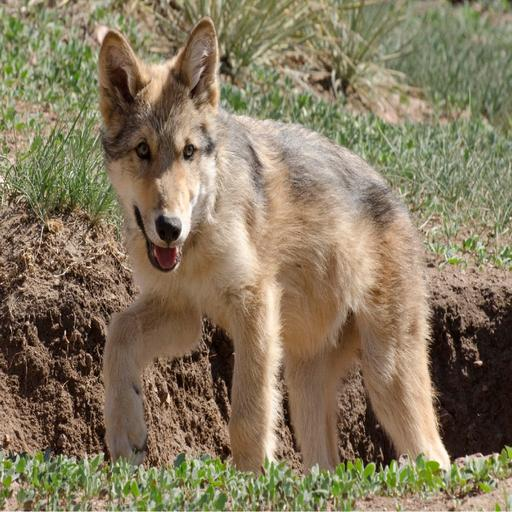Wolf: (93, 13, 451, 482)
